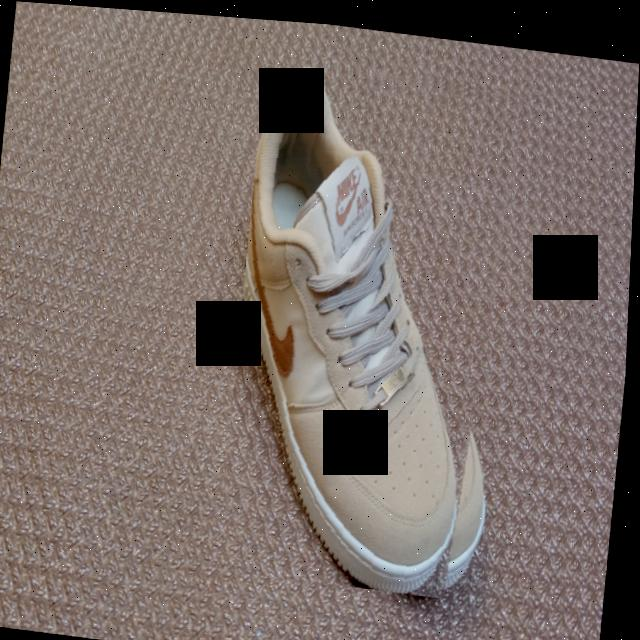shoe: (221, 52, 528, 596)
